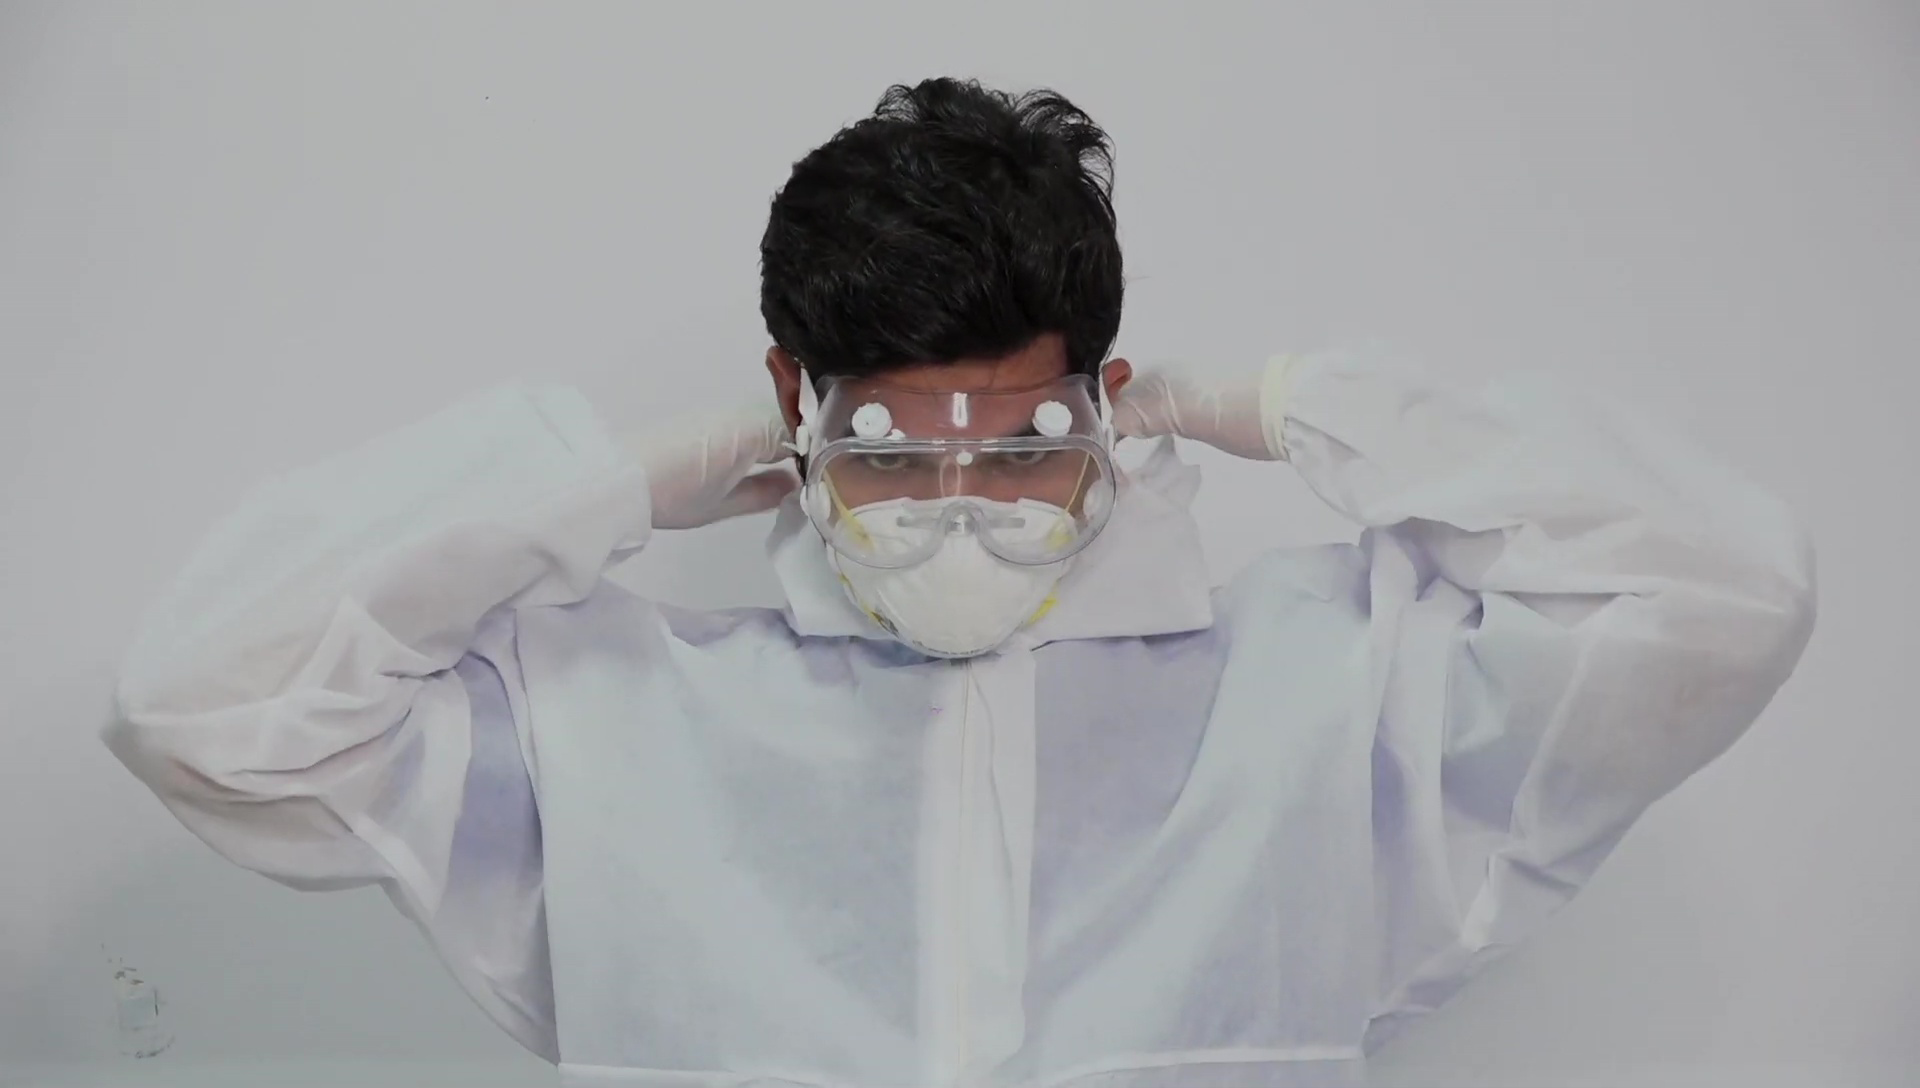Coverall: (98, 341, 1818, 1088)
Gloves: (793, 374, 1121, 572), (648, 409, 798, 533), (1112, 367, 1285, 464)
with_mask: (829, 436, 1085, 662)
